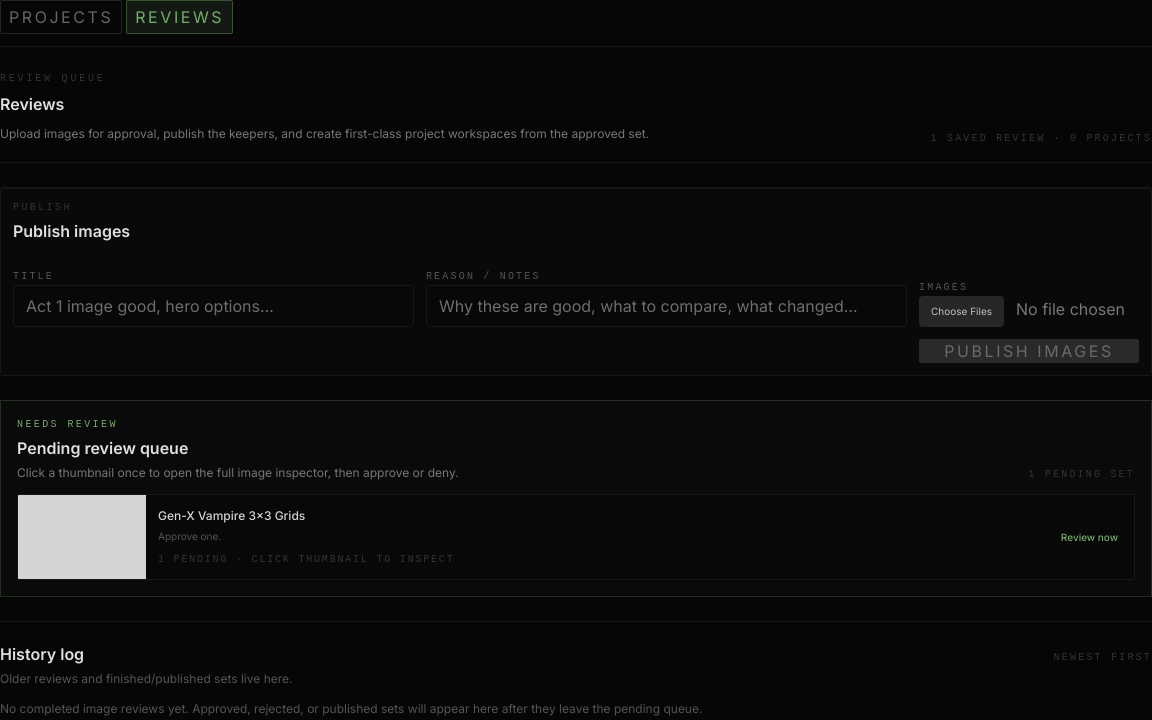
Test: App › opens review images in a large modal with approve and optional reject reason
Click the button "Gen-X Vampire 3x3 Grids" at (82, 537), box [17,494,1135,580]
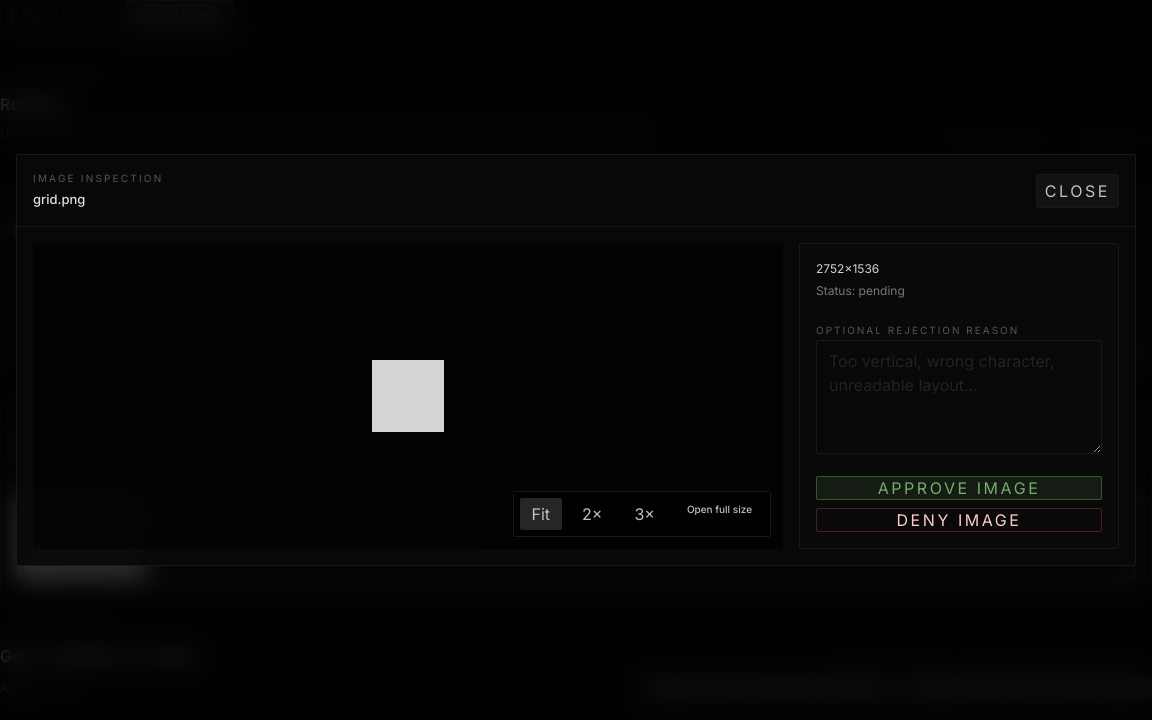
Expected: the dialog "grid.png" is shown
Type "too vertical and hard to read" into the text box labelled "Optional rejection reason" at (959, 397), box [816,340,1102,454]
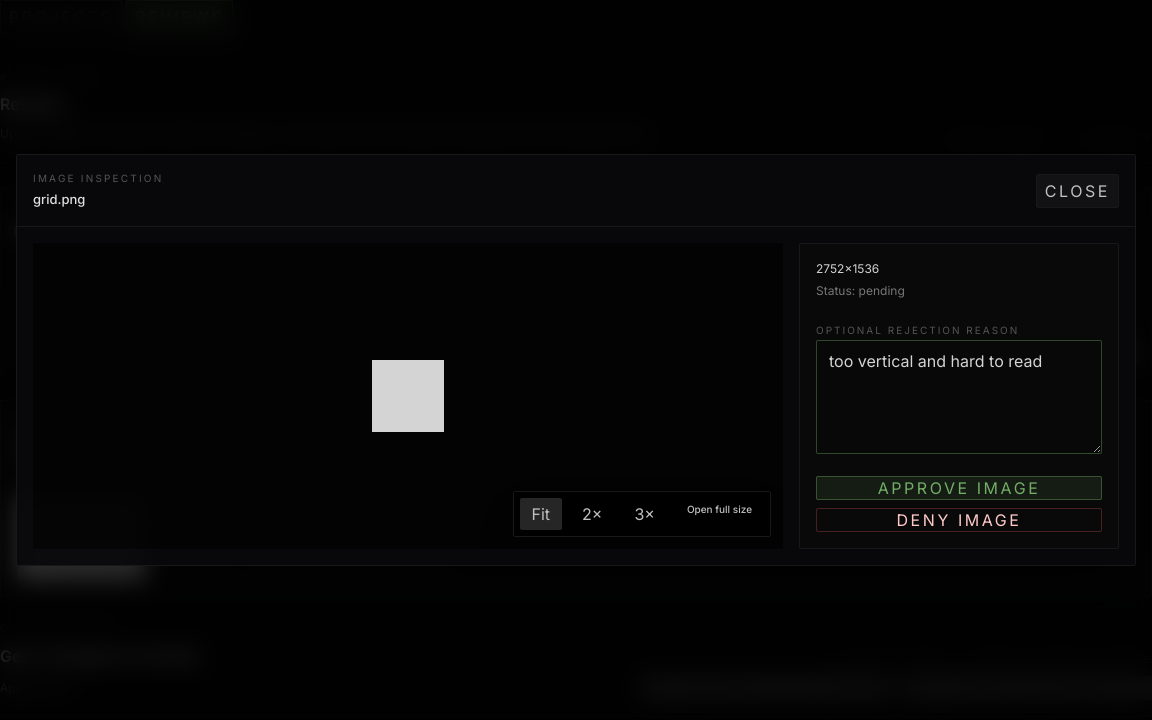
Click the button "Deny image" at (959, 520), box [816,508,1102,532]
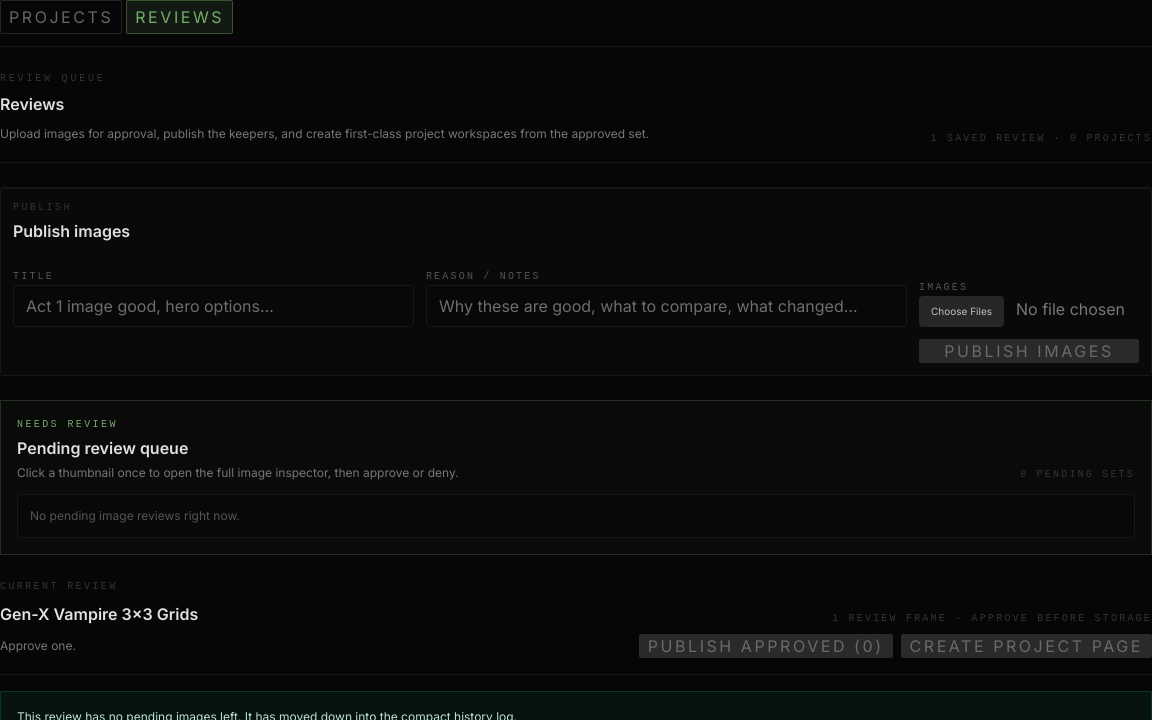
Expected: the heading "Gen-X Vampire 3x3 Grids" is shown, [0,602,198,626]
Expected: the heading "grid.png" is gone
Expected: the text "0 pending sets" is shown, [1020,467,1135,482]
